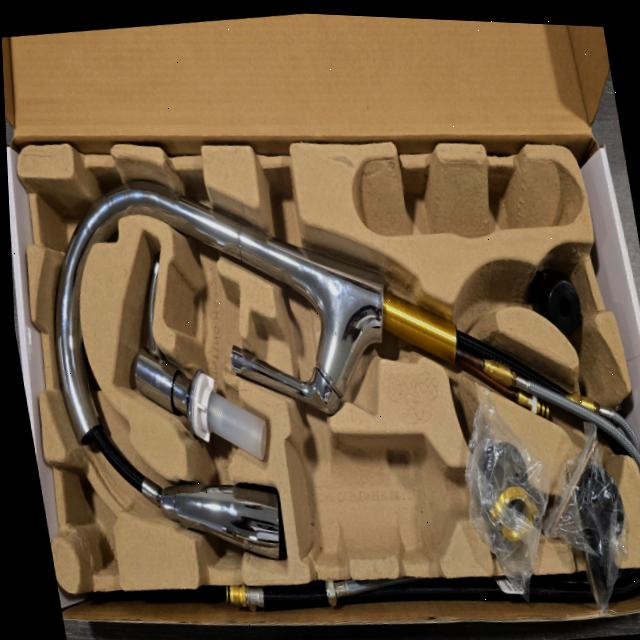1: (55, 177, 634, 557)
2: (132, 257, 265, 460)
3m: (282, 433, 479, 561)
4m: (350, 160, 582, 238)
5: (526, 268, 579, 335)
6: (464, 389, 553, 600)
7: (542, 420, 627, 619)
